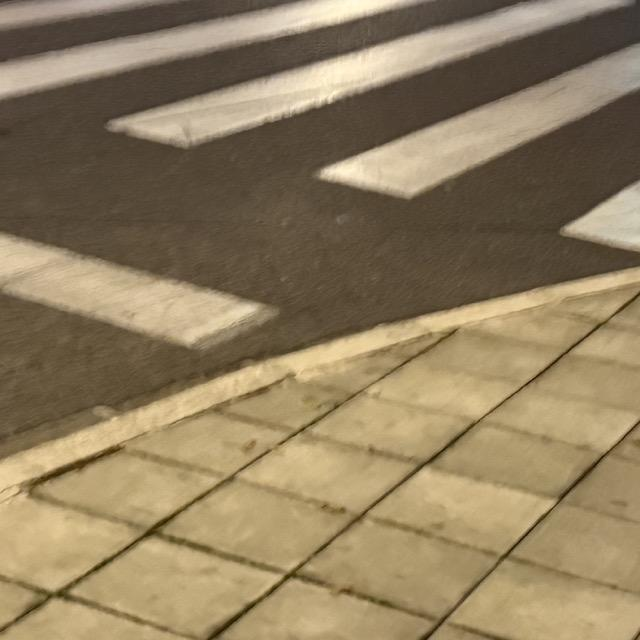curb: (0, 269, 639, 502)
